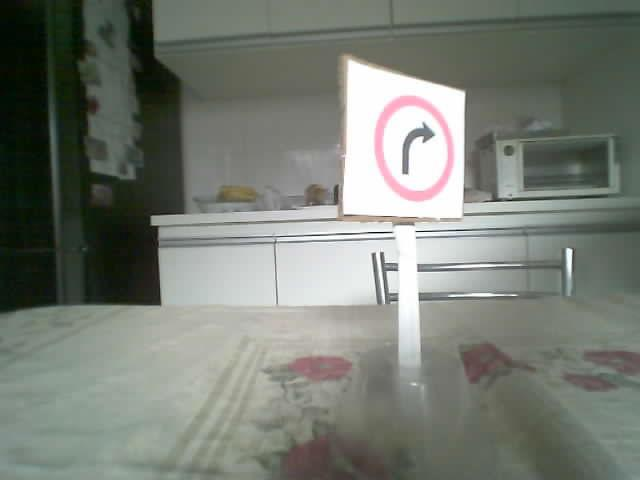R-25b_direita: (373, 94, 454, 203)
